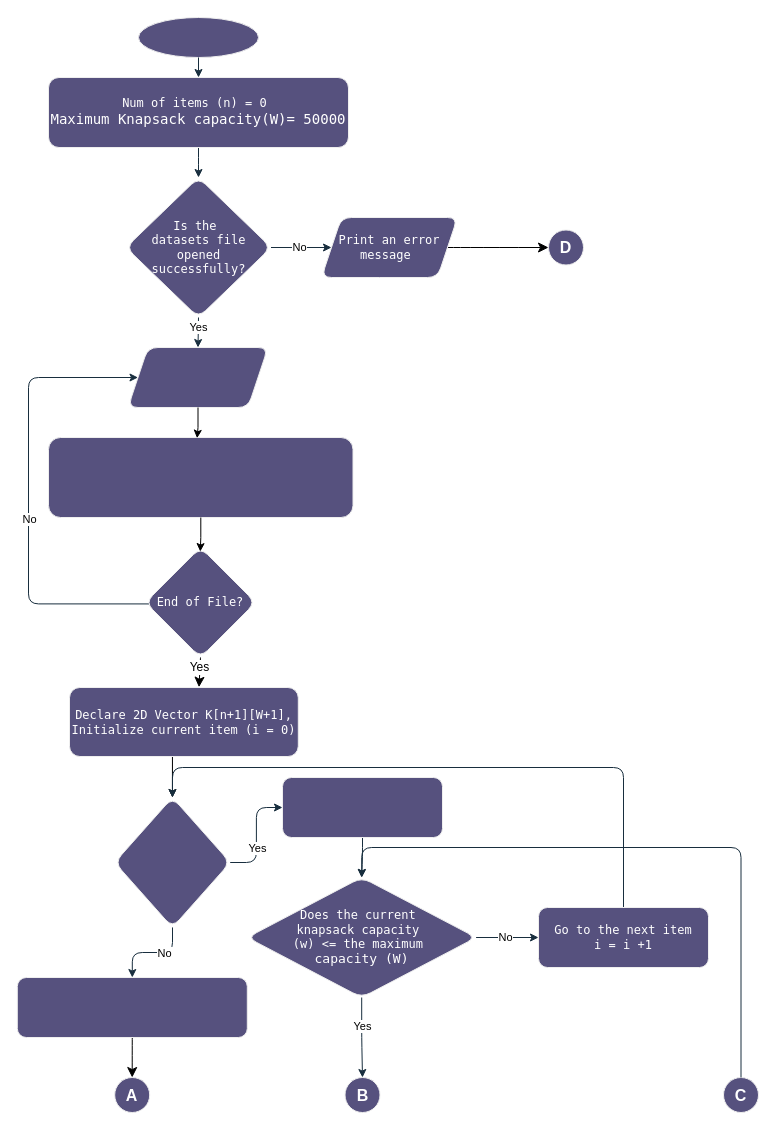
Some shapes in this 777 by 1130 pixel diagram are drawn without their labels. Each missing label, with the centre of its shape:
"Convert the price and weight to integers, Increment n umber of items (n = n +1)" goes at [200,477].
"Is i <= n?" goes at [172,862].
"Knapsack current capacity w = 0" goes at [362,807].
"Read Price and Weight from the file" goes at [197,377].
"Start" goes at [198,37].
"Store the max price int res = K[n][W]" goes at [131,1007].
